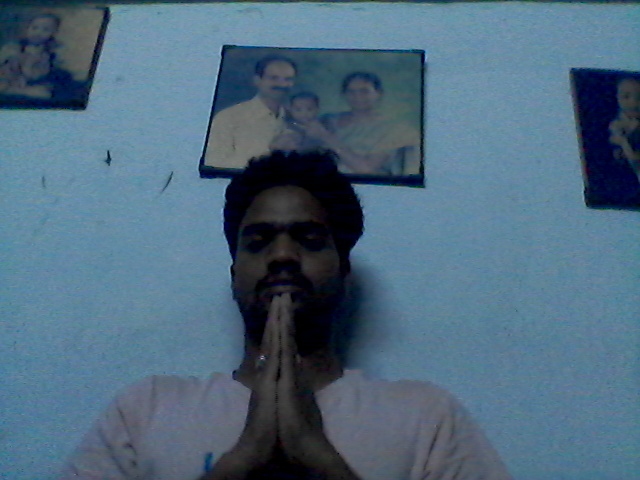Namasthe: (212, 293, 357, 480)
